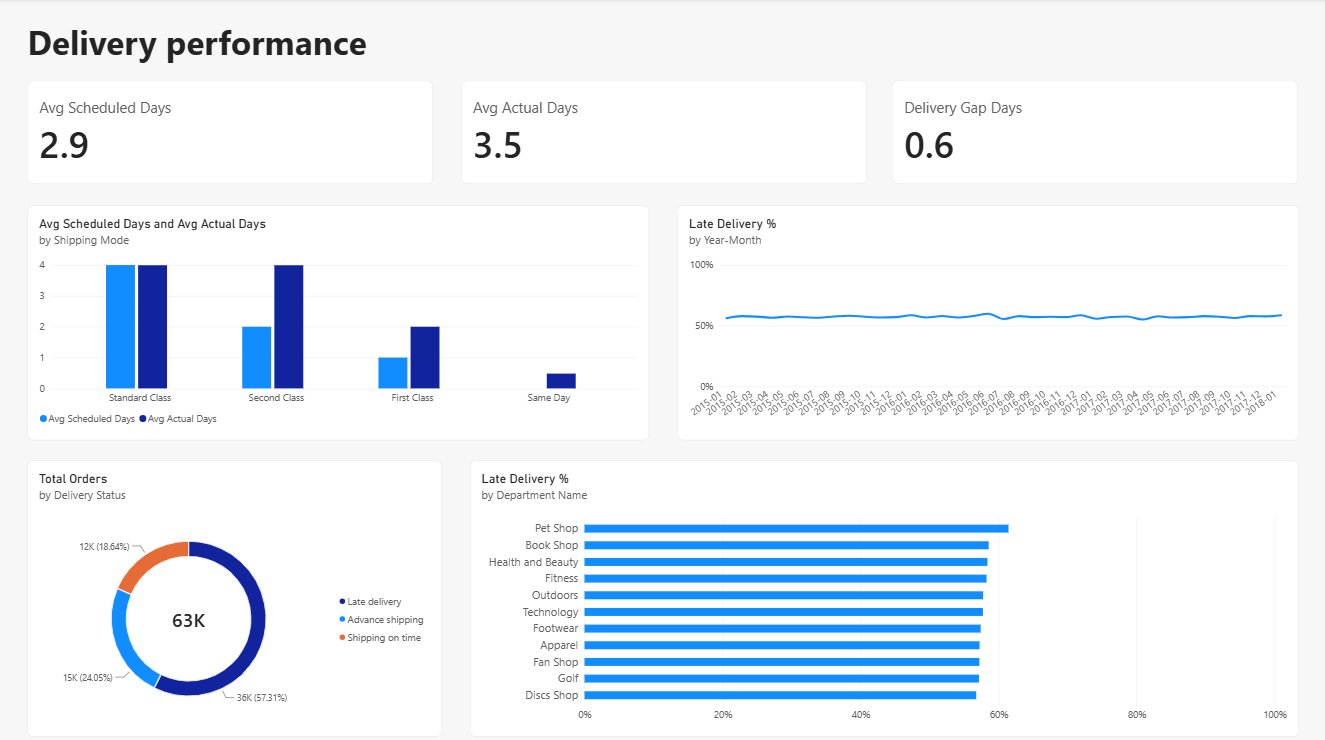

The page's visual inventory and layout, read from the dashboard file:
{"tool":"powerbi","page":{"name":"Delivery performance","canvas":[1920,1080],"ordinal":1},"visuals":[{"type":"textbox","box":[40,30,1400,70],"z":0},{"type":"cardVisual","fields":{"Data":["Orders.Avg Scheduled Days"]},"box":[40,120,587,150],"z":5},{"type":"cardVisual","fields":{"Data":["Orders.Avg Actual Days"]},"box":[667,120,587,150],"z":6},{"type":"cardVisual","fields":{"Data":["Orders.Delivery Gap Days"]},"box":[1293,120,587,150],"z":7},{"type":"clusteredColumnChart","fields":{"Category":["Orders.Shipping Mode"],"Y":["Orders.Avg Scheduled Days","Orders.Avg Actual Days"]},"box":[40,300,900,340],"z":8},{"type":"lineChart","fields":{"Category":["Date Table.Year-Month"],"Y":["Orders.Late Delivery %"]},"box":[980,300,900,340],"z":9},{"type":"donutChart","fields":{"Category":["Orders.Delivery Status"],"Y":["Orders.Total Orders"]},"box":[40,670,600,400],"z":10},{"type":"clusteredBarChart","fields":{"Category":["Products.Department Name"],"Y":["Orders.Late Delivery %"]},"box":[680,670,1200,400],"z":11}]}

Visuals, with their boxes in screenshot pixels (x1, y1, x2, y2), scaled from the page's 1920x1080 canvas onto the 1325x740 screenshot:
textbox: (28, 21, 994, 69)
cardVisual - Orders.Avg Scheduled Days: (28, 82, 433, 185)
cardVisual - Orders.Avg Actual Days: (460, 82, 865, 185)
cardVisual - Orders.Delivery Gap Days: (892, 82, 1297, 185)
clusteredColumnChart - Orders.Shipping Mode x Orders.Avg Scheduled Days: (28, 206, 649, 439)
lineChart - Date Table.Year-Month x Orders.Late Delivery %: (676, 206, 1297, 439)
donutChart - Orders.Delivery Status x Orders.Total Orders: (28, 459, 442, 733)
clusteredBarChart - Products.Department Name x Orders.Late Delivery %: (469, 459, 1297, 733)
